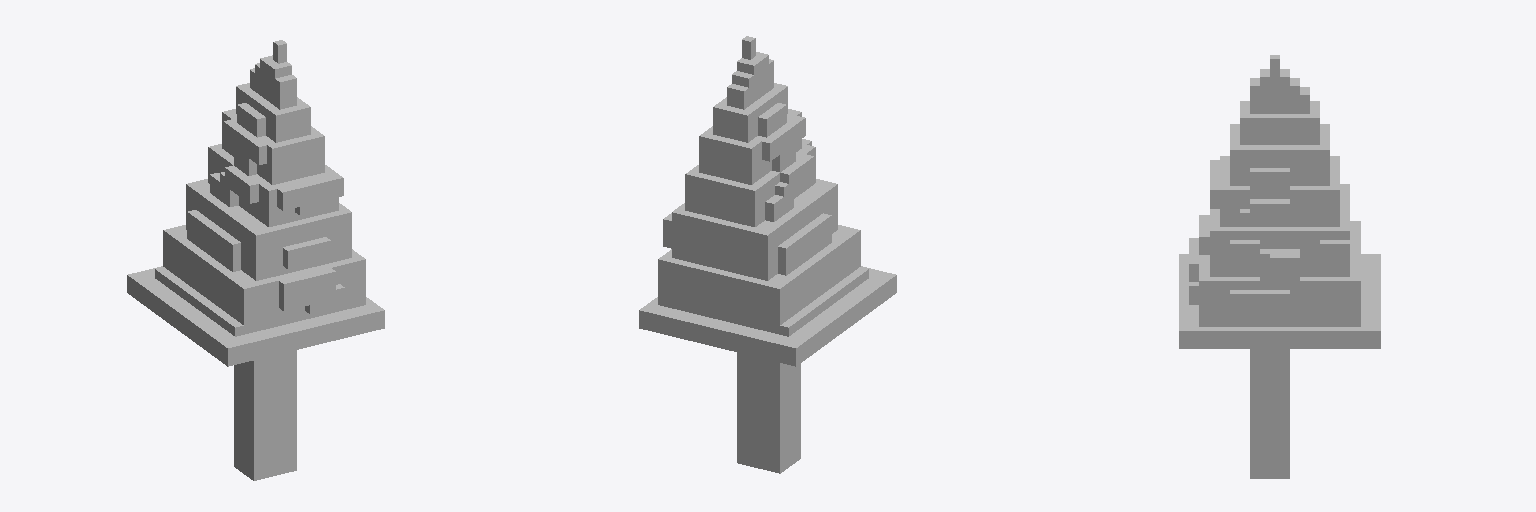
Rendered from tree2.obj.
The picture shows the model from 3 angles: view 1: azimuth 30°, elevation 25°; view 2: azimuth 150°, elevation 25°; view 3: azimuth 270°, elevation 25°; orthographic projection.
Size of the model in its own units: 18 by 46 by 20.